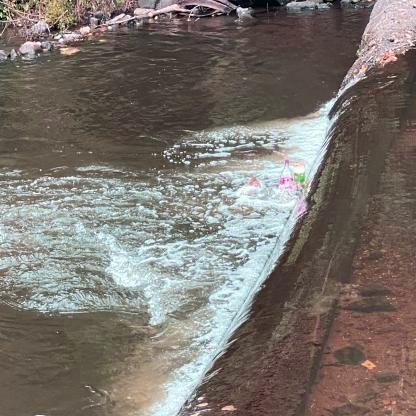Plastic: (247, 174, 264, 192)
